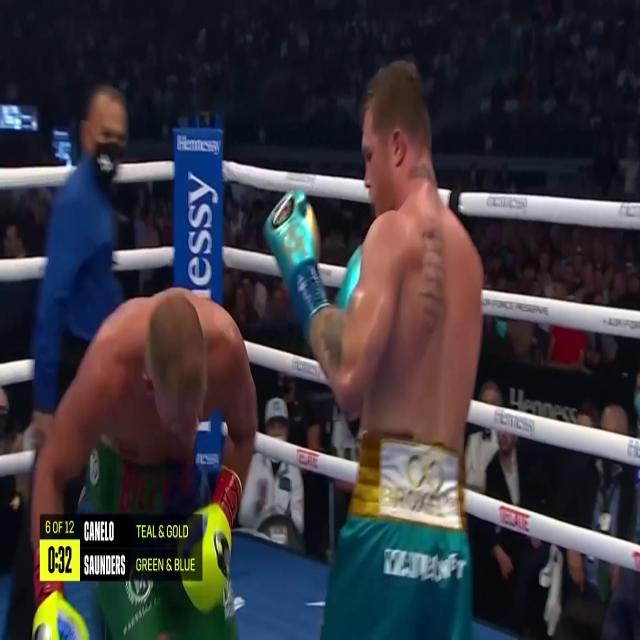boxer_1: (99, 289, 223, 459)
boxer_2: (360, 63, 482, 453)
gloves_1: (178, 466, 242, 612), (31, 542, 89, 640)
gloves_2: (263, 190, 329, 332), (337, 245, 363, 312)
